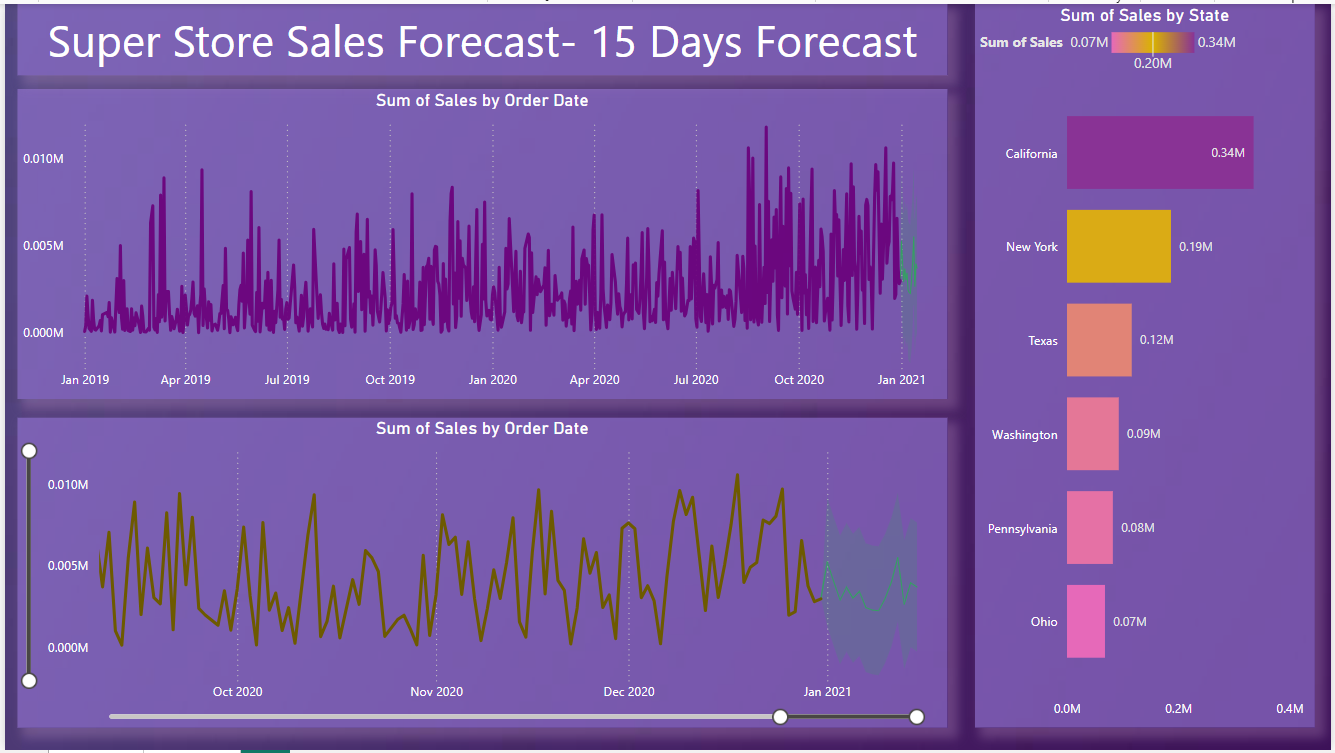

The dashboard page shown, as its layout file describes it:
{"tool":"powerbi","page":{"name":"Page 2","canvas":[1280,720],"ordinal":1},"visuals":[{"type":"lineChart","fields":{"Y":["Sum(Sheet1.Sales)"],"Category":["Sheet1.Order Date"]},"box":[12.3,82.3,897.4,299.1],"z":0},{"type":"lineChart","fields":{"Y":["Sum(Sheet1.Sales)"],"Category":["Sheet1.Order Date"]},"box":[12.3,399.3,897.4,299.1],"z":1000},{"type":"textbox","box":[12.3,0,897.4,68.6],"z":2000},{"type":"clusteredBarChart","fields":{"Y":["Sum(Sheet1.Sales)"],"Category":["Sheet1.State"]},"box":[935.9,0,328,698.5],"z":3000}]}

Visuals, with their boxes in screenshot pixels (x1, y1, x2, y2), scaled from the page's 1280x720 canvas onto the 1335x753 screenshot:
lineChart - Sum(Sheet1.Sales) x Sheet1.Order Date: {"x1": 13, "y1": 86, "x2": 949, "y2": 399}
lineChart - Sum(Sheet1.Sales) x Sheet1.Order Date: {"x1": 13, "y1": 418, "x2": 949, "y2": 730}
textbox: {"x1": 13, "y1": 0, "x2": 949, "y2": 72}
clusteredBarChart - Sum(Sheet1.Sales) x Sheet1.State: {"x1": 976, "y1": 0, "x2": 1318, "y2": 731}
